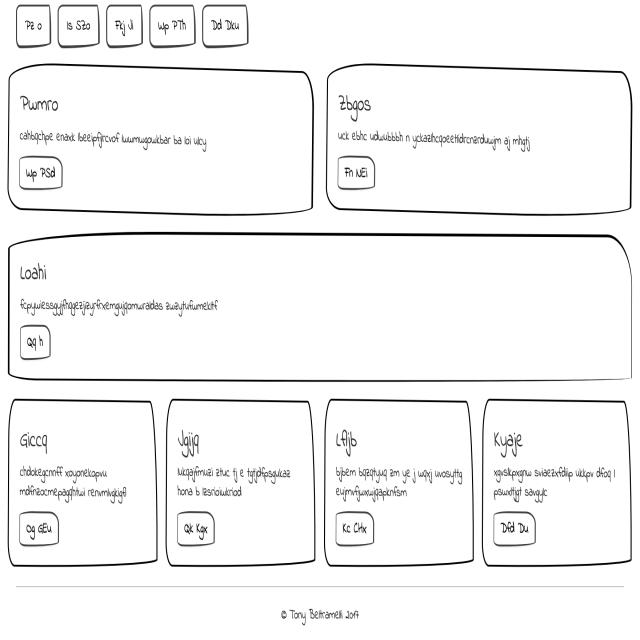Button: (176, 507, 220, 546), (335, 152, 377, 191), (16, 510, 61, 546), (18, 158, 66, 186), (18, 325, 52, 360), (332, 512, 377, 538)
Card: (7, 231, 624, 392), (325, 62, 634, 216), (7, 63, 315, 215), (322, 395, 474, 567), (482, 396, 632, 566), (8, 398, 159, 564), (166, 398, 316, 557)
Footer: (0, 582, 640, 640)
Heading 6: (336, 88, 372, 124), (493, 425, 524, 458), (18, 92, 61, 115), (331, 424, 358, 458), (175, 426, 203, 456), (18, 260, 48, 287), (22, 429, 49, 453)
Navigation Bar: (16, 1, 250, 52)
Paragraph: (334, 464, 466, 507), (19, 125, 210, 153), (17, 462, 128, 510), (494, 462, 618, 502), (16, 296, 220, 320), (337, 128, 532, 152), (175, 462, 292, 502)
